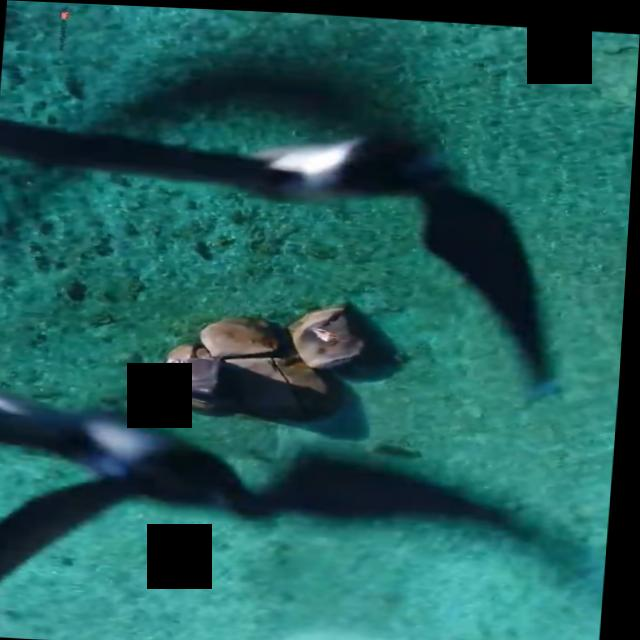Vehicle: (0, 50, 604, 640)
